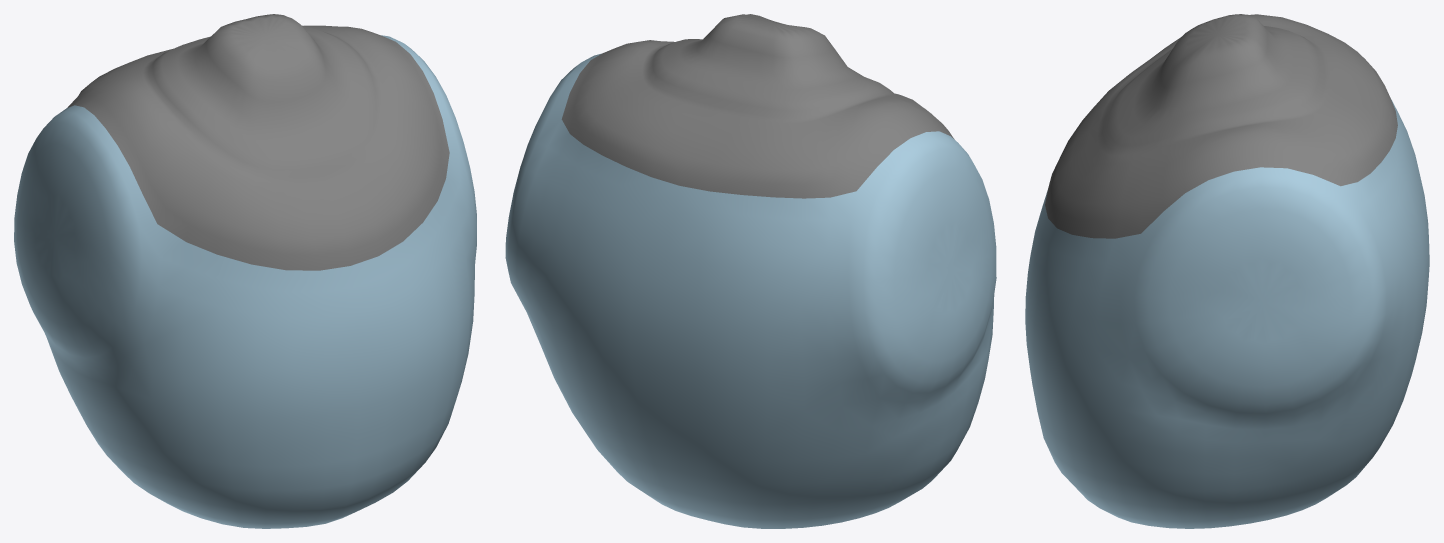
File: Separated_UpperBody.fbx
The picture shows the model from 3 angles, left to right: view 1: azimuth 30°, elevation 25°; view 2: azimuth 150°, elevation 25°; view 3: azimuth 270°, elevation 25°; orthographic projection. The views are drawn at different scales.
Parts seen in each view (by area): view 1: Upper Body; view 2: Upper Body; view 3: Upper Body.
Part boxes in pixels (x1,y1,x2,y2): Upper Body: (14,14,476,528); Upper Body: (505,14,996,528); Upper Body: (1025,14,1429,528).
Bounding box in the file's own units: 62.48 × 69.79 × 54.57.
